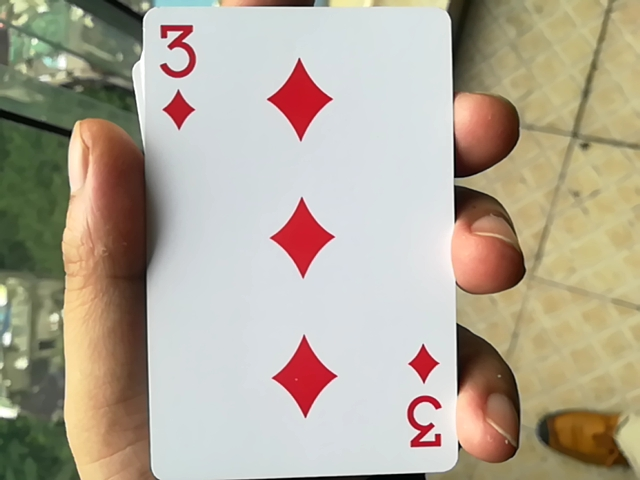fk 3: (125, 2, 468, 474)
